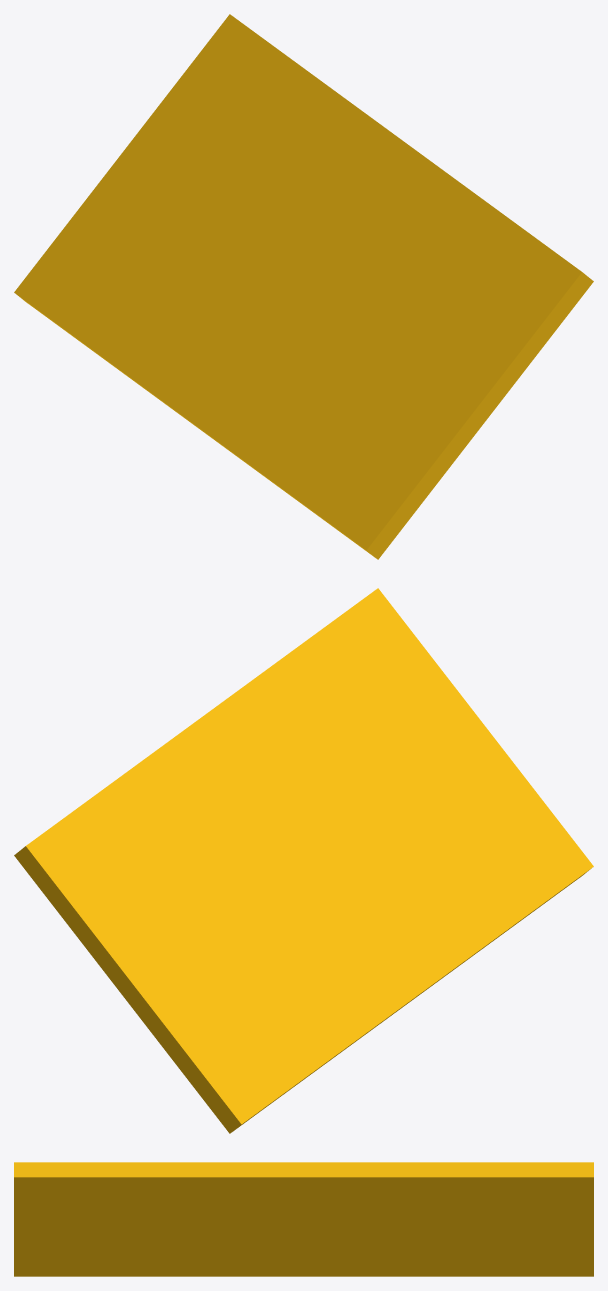
The picture shows the model from 3 angles, top to bottom: view 1: azimuth 30°, elevation 25°; view 2: azimuth 150°, elevation 25°; view 3: azimuth 270°, elevation 25°; orthographic projection. The views are drawn at different scales.
Visible parts, largest first — view 1: root_node; view 2: root_node; view 3: root_node.
Part boxes in pixels (x1,y1,x2,y2): root_node: (14,14,593,559); root_node: (14,588,593,1133); root_node: (14,1162,593,1276).
Bounding box in the file's own units: 0.082 × 0.082 × 0.22.
